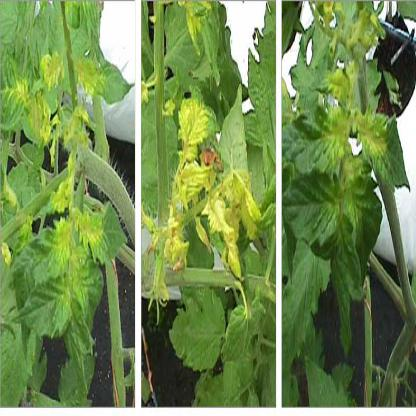Tomato leaf yellow virus: (283, 107, 357, 176), (363, 105, 411, 198), (16, 213, 71, 292), (77, 51, 134, 110), (79, 208, 126, 271), (176, 88, 222, 148)
